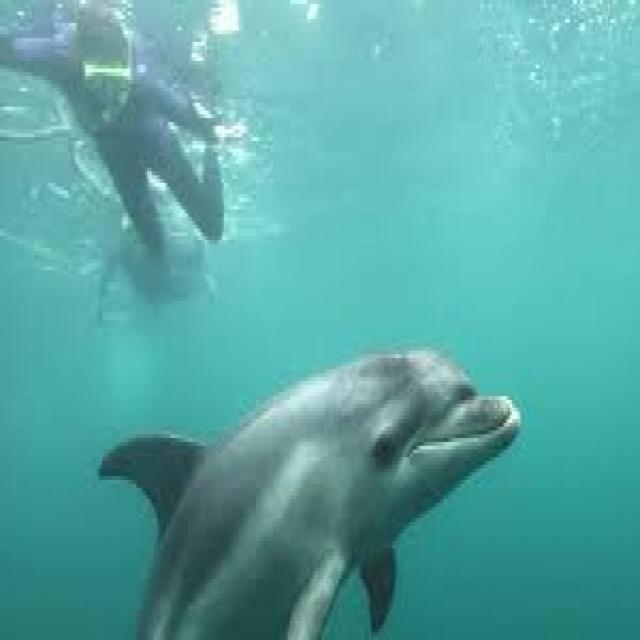dolphin: (62, 331, 566, 640)
